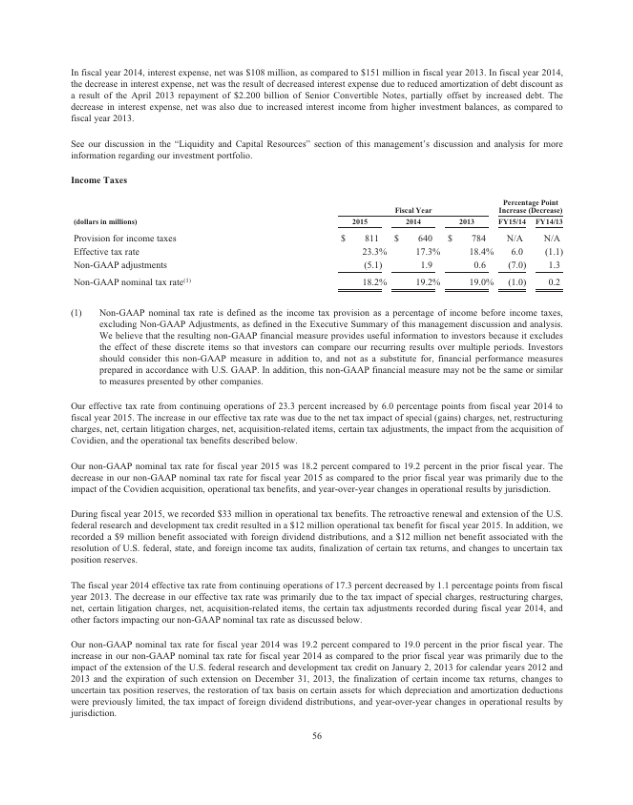table: (329, 196, 568, 299)
